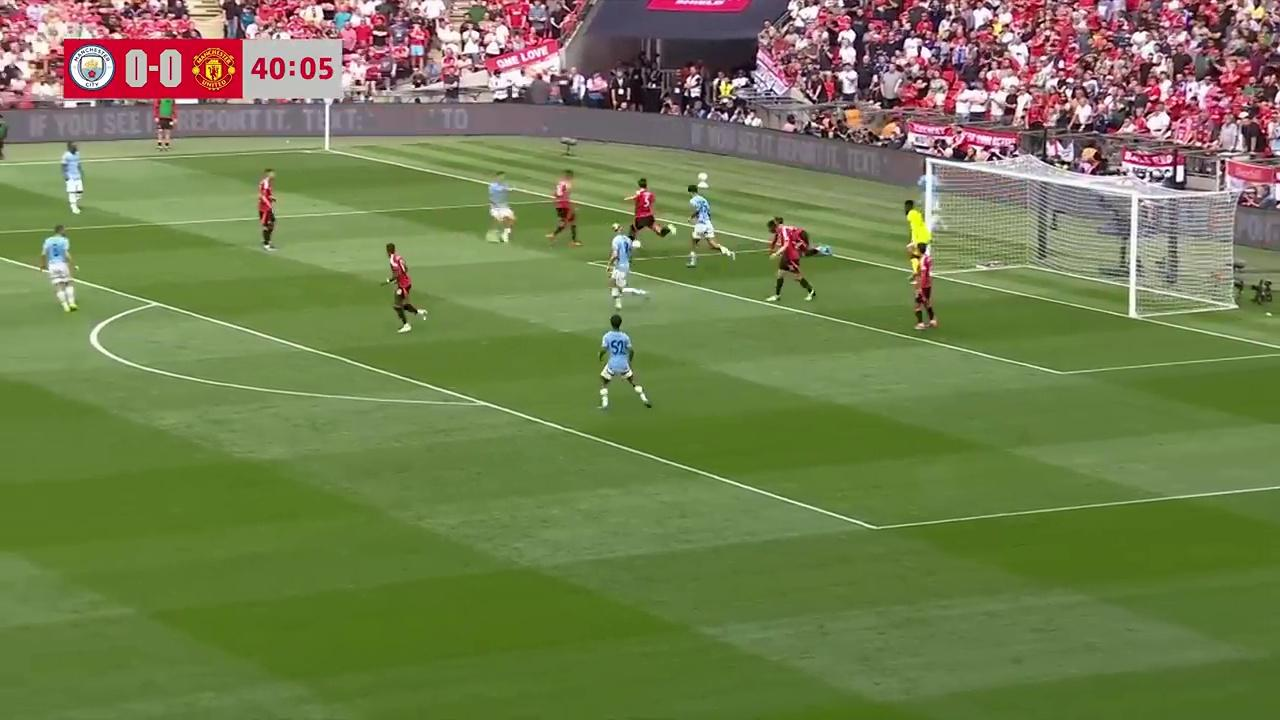ball: (610, 219, 621, 232)
player: (597, 314, 652, 410), (766, 217, 819, 301), (685, 191, 736, 265), (385, 244, 427, 332), (623, 178, 675, 243), (41, 224, 77, 312), (546, 171, 580, 247), (606, 222, 636, 305), (910, 244, 938, 329), (486, 173, 516, 244), (60, 140, 84, 215), (257, 169, 277, 251), (904, 199, 927, 256)
